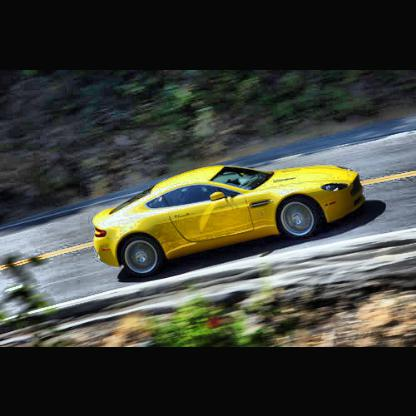Aston Martin V8 Vantage Coupe 2012: (90, 161, 370, 282)
